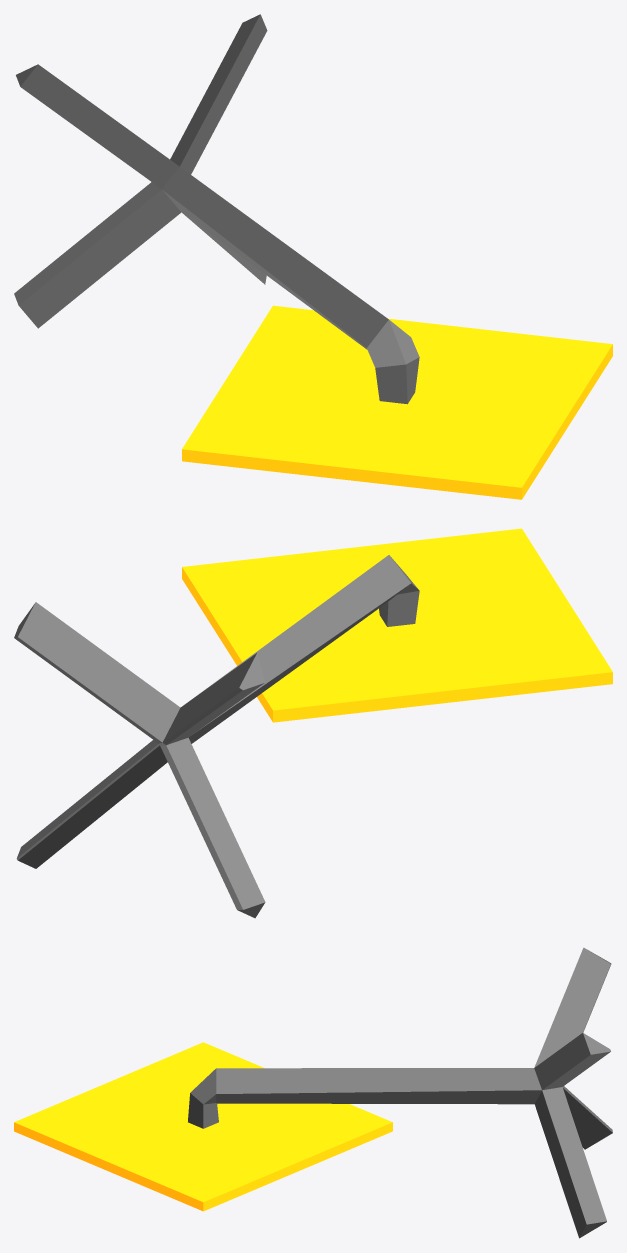
The model's file is road_work_sign.glb.
3 renders of one model, top to bottom at view 1: azimuth 30°, elevation 25°; view 2: azimuth 150°, elevation 25°; view 3: azimuth 270°, elevation 25°, orthographic. The views are drawn at different scales.
Visible parts, largest first — view 1: sign; view 2: sign; view 3: sign.
Boxes of the visible parts, x1,y1,x2,y2 form: sign: (14, 14, 612, 499); sign: (14, 528, 612, 918); sign: (14, 947, 612, 1238).
Bounding box in the file's own units: 0.7834 × 0.4745 × 1.24.
